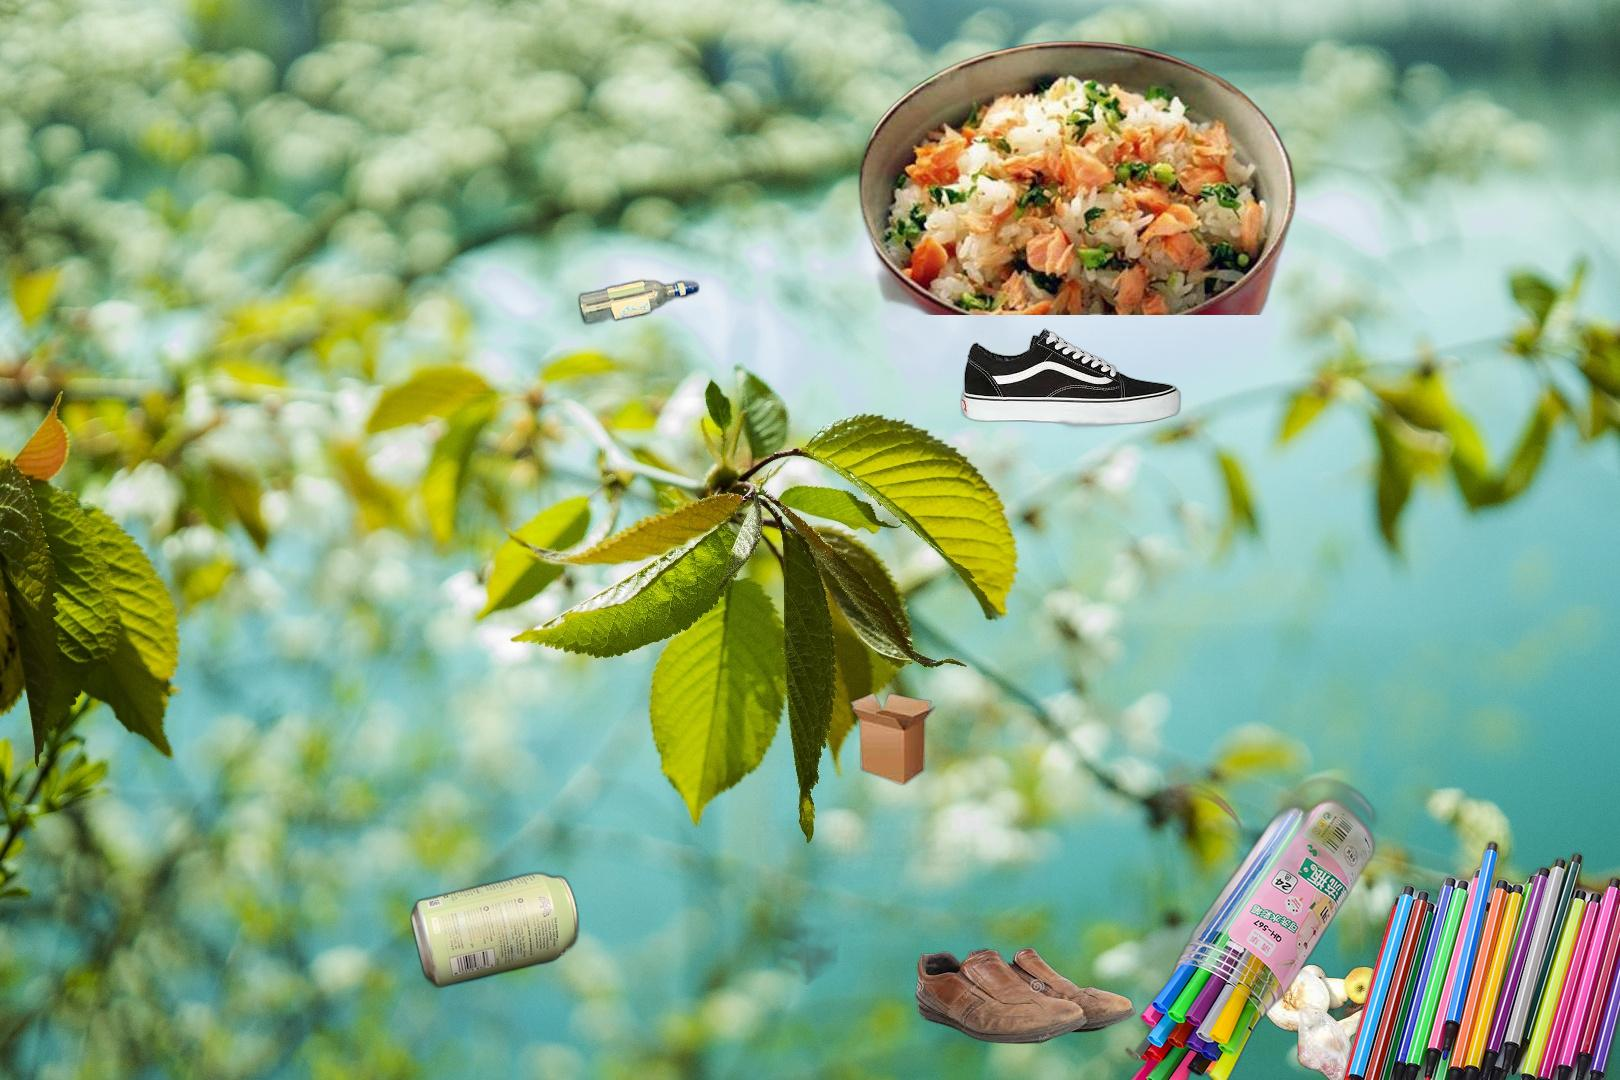biological: (856, 40, 1304, 315), (1208, 961, 1386, 1080)
glass: (574, 274, 704, 329)
metal-cans: (407, 868, 582, 994)
penholder: (1120, 774, 1620, 1080)
shoes: (953, 325, 1185, 445), (912, 945, 1138, 1047)
trashbox-cardboard: (756, 686, 1056, 985)
